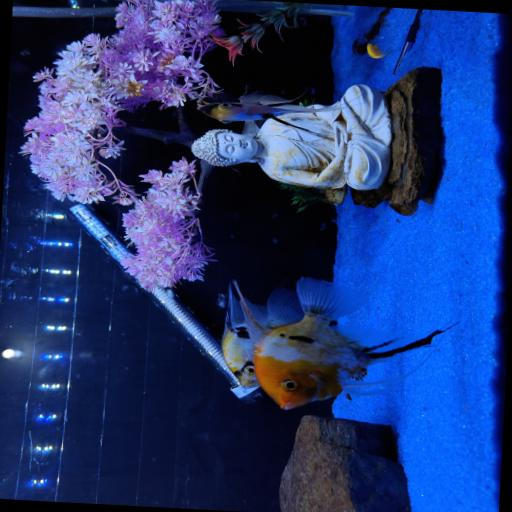Fish: (235, 277, 446, 408), (198, 92, 343, 130), (221, 284, 259, 387), (222, 284, 259, 387), (367, 43, 388, 57)
